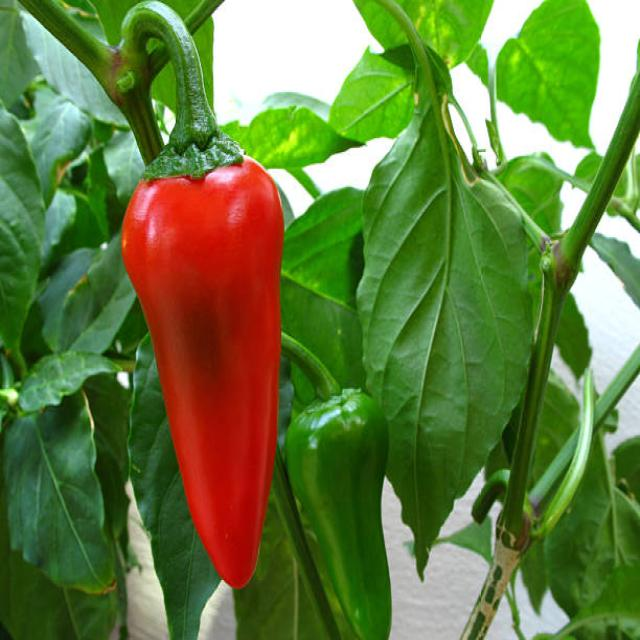Ripe: (122, 158, 283, 587)
Unripe: (284, 389, 390, 639)
